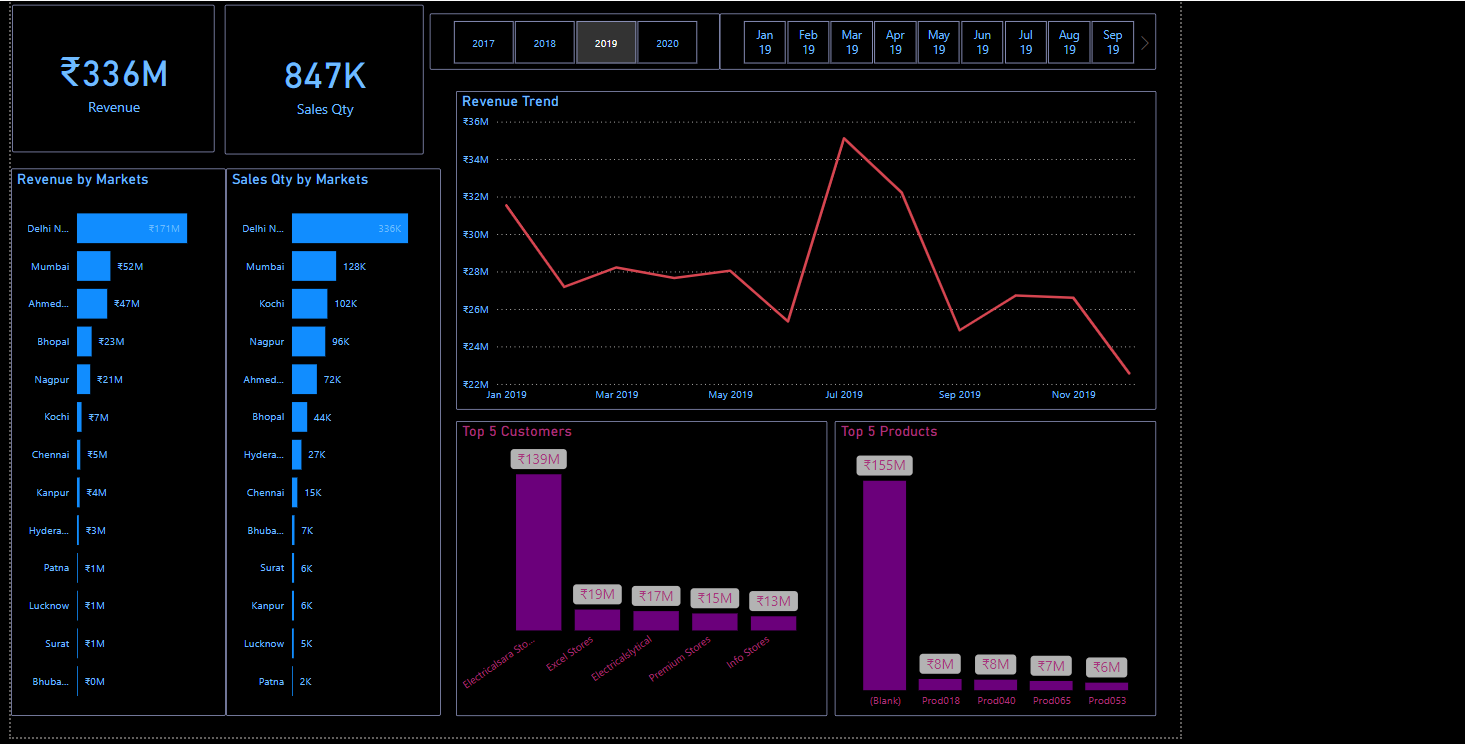

Layout of this report page (visuals, bound fields, positions):
{"tool":"powerbi","page":{"name":"Key Insights","canvas":[1350,850],"ordinal":0},"visuals":[{"type":"card","fields":{"Values":["BaseMeasures (2).Revenue"]},"box":[2,4,233.9,170.3],"z":0},{"type":"card","fields":{"Values":["BaseMeasures (2).Sales Qty"]},"box":[246.9,4,229.5,173],"z":1000},{"type":"barChart","title":"Revenue by Markets","fields":{"Y":["BaseMeasures (2).Revenue"],"Category":["sales markets.markets_name"]},"box":[0,193.1,247.9,631.9],"z":2000},{"type":"barChart","title":"Sales Qty by Markets","fields":{"Y":["BaseMeasures (2).Sales Qty"],"Category":["sales markets.markets_name"]},"box":[247.9,193.1,247.9,631.9],"z":3000},{"type":"slicer","fields":{"Values":["sales date.year"]},"box":[483.6,14.4,334.9,65],"z":4000},{"type":"slicer","fields":{"Values":["sales date.cy_date"]},"box":[818.5,14.4,503.8,65],"z":5000},{"type":"lineStackedColumnComboChart","title":"Top 5 Customers","fields":{"Category":["sales customers.custmer_name"],"Y":["BaseMeasures (2).Revenue"]},"box":[513.9,485.1,428.8,340.7],"z":6000},{"type":"lineStackedColumnComboChart","title":"Top 5 Products","fields":{"Category":["sales products.product_code"],"Y":["BaseMeasures (2).Revenue"]},"box":[951.3,485.1,371,340.7],"z":7000},{"type":"lineChart","title":"Revenue Trend","fields":{"Y":["BaseMeasures (2).Revenue"],"Category":["sales date.cy_date"]},"box":[513.9,103.9,808.4,368.1],"z":8000}]}

Visuals, with their boxes in screenshot pixels (x1, y1, x2, y2):
card - BaseMeasures (2).Revenue: select_region(9, 0, 211, 147)
card - BaseMeasures (2).Sales Qty: select_region(221, 0, 419, 149)
"Revenue by Markets" barChart: select_region(8, 163, 222, 708)
"Sales Qty by Markets" barChart: select_region(222, 163, 436, 708)
slicer - sales date.year: select_region(425, 9, 714, 65)
slicer - sales date.cy_date: select_region(714, 9, 1149, 65)
"Top 5 Customers" lineStackedColumnComboChart: select_region(451, 415, 821, 709)
"Top 5 Products" lineStackedColumnComboChart: select_region(829, 415, 1149, 709)
"Revenue Trend" lineChart: select_region(451, 86, 1149, 404)
